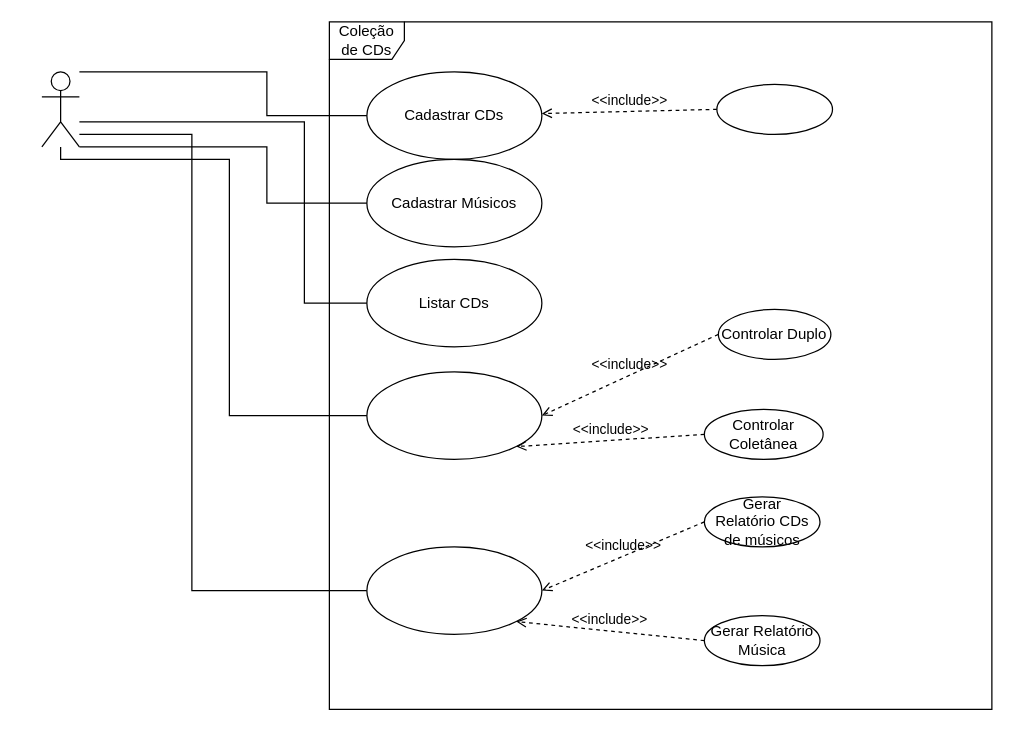
Image size: 1014x731. Some labels were removed from this diagram. Each missing label, with the centre of its shape:
Cadastrar musicas: point (774, 108)
Controlar CDs: point (454, 415)
Funcionário: point (60, 109)
Gerar Relatório: point (454, 590)
